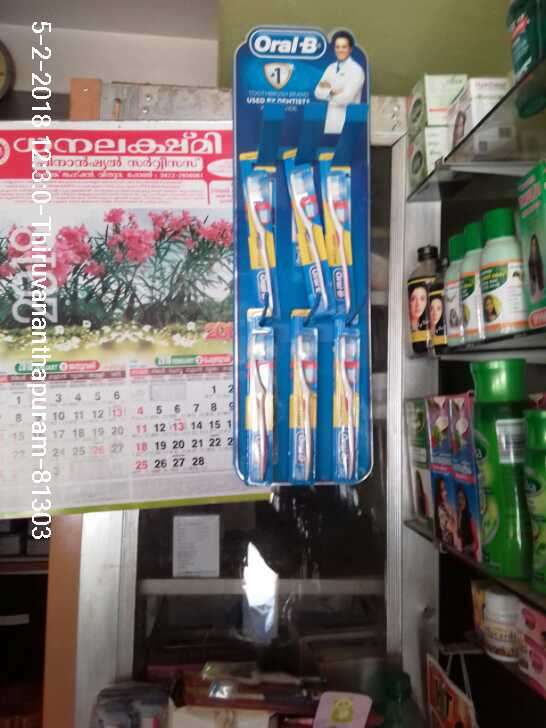oralb: (280, 153, 332, 313), (238, 151, 281, 306), (319, 151, 359, 313), (290, 311, 322, 483), (247, 307, 274, 488), (333, 313, 362, 480)
